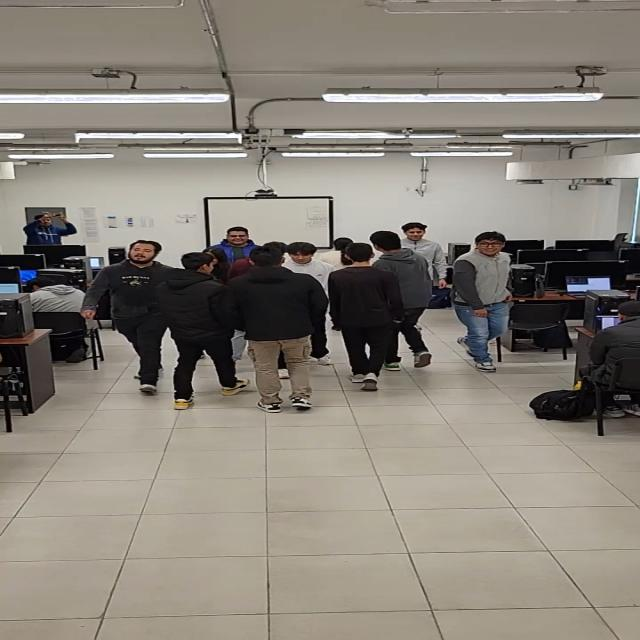Persona: (89, 237, 170, 395), (238, 246, 314, 414), (168, 248, 241, 410), (459, 224, 524, 376), (334, 244, 398, 398), (384, 229, 440, 372)
